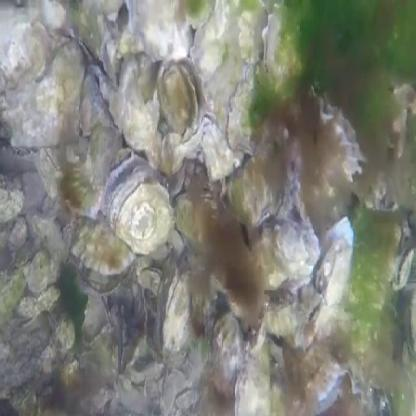Oyster- Indeterminate: (172, 112, 242, 180), (125, 0, 192, 62), (225, 64, 265, 155), (292, 341, 339, 413), (228, 161, 281, 222), (266, 301, 315, 347), (263, 6, 291, 85), (164, 269, 192, 347), (55, 29, 98, 66), (339, 357, 367, 395), (394, 244, 414, 289), (405, 289, 416, 354), (139, 266, 162, 294)
Oyster-Closed: (37, 137, 102, 215), (250, 221, 320, 288), (191, 0, 227, 79), (211, 312, 245, 393), (29, 210, 64, 258), (239, 7, 266, 67), (28, 249, 59, 291), (182, 0, 215, 28), (52, 311, 75, 350), (9, 218, 28, 251)
Oyster-Open: (103, 155, 172, 254), (300, 219, 353, 343), (73, 209, 134, 293), (315, 93, 358, 196), (159, 56, 207, 130), (235, 337, 272, 416), (300, 284, 322, 319)
